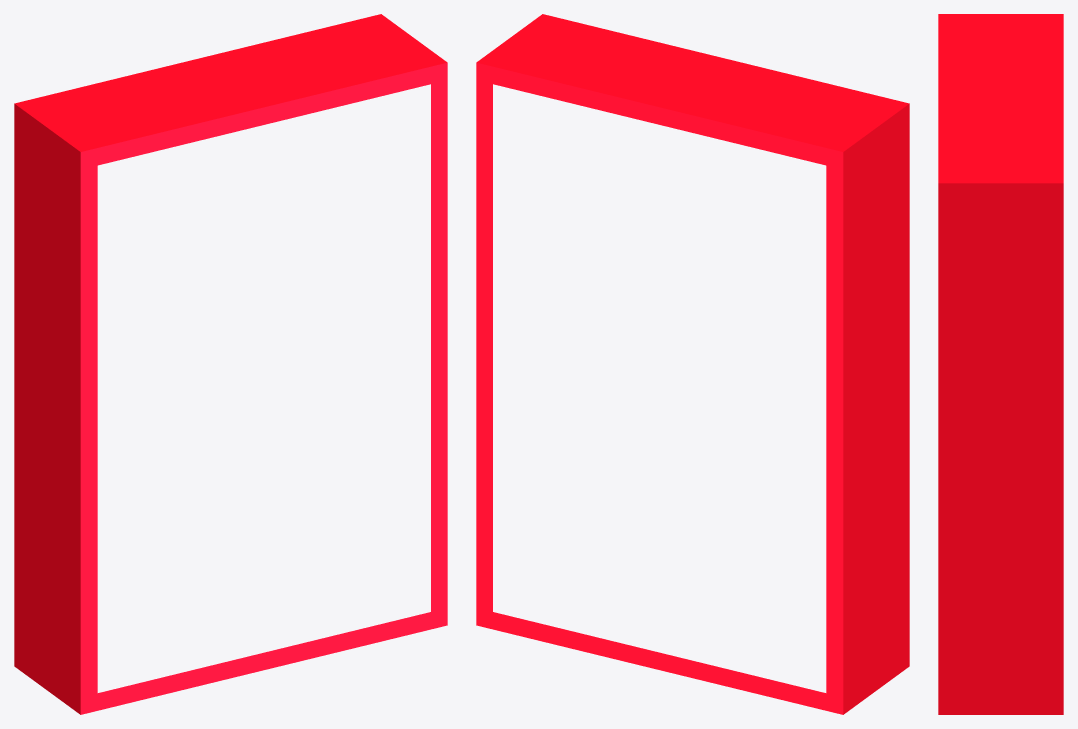
Rendered from 705ddf55-3e6b-410e-b682-48eae50c7cb9.glb.
The picture shows the model from 3 angles, left to right: view 1: azimuth 30°, elevation 25°; view 2: azimuth 150°, elevation 25°; view 3: azimuth 270°, elevation 25°; orthographic projection. The views are drawn at different scales.
Visible parts, largest first — view 1: 0_AlphaProta_Red; view 2: 0_AlphaProta_Red; view 3: 0_AlphaProta_Red.
Part boxes in pixels (x1,y1,x2,y2): 0_AlphaProta_Red: (14, 14, 447, 714); 0_AlphaProta_Red: (476, 14, 909, 714); 0_AlphaProta_Red: (938, 14, 1063, 714).
Size of what is drawn, in the model's own units: 0.1436 by 0.2105 by 0.045.
2 materials, 2 textured.
